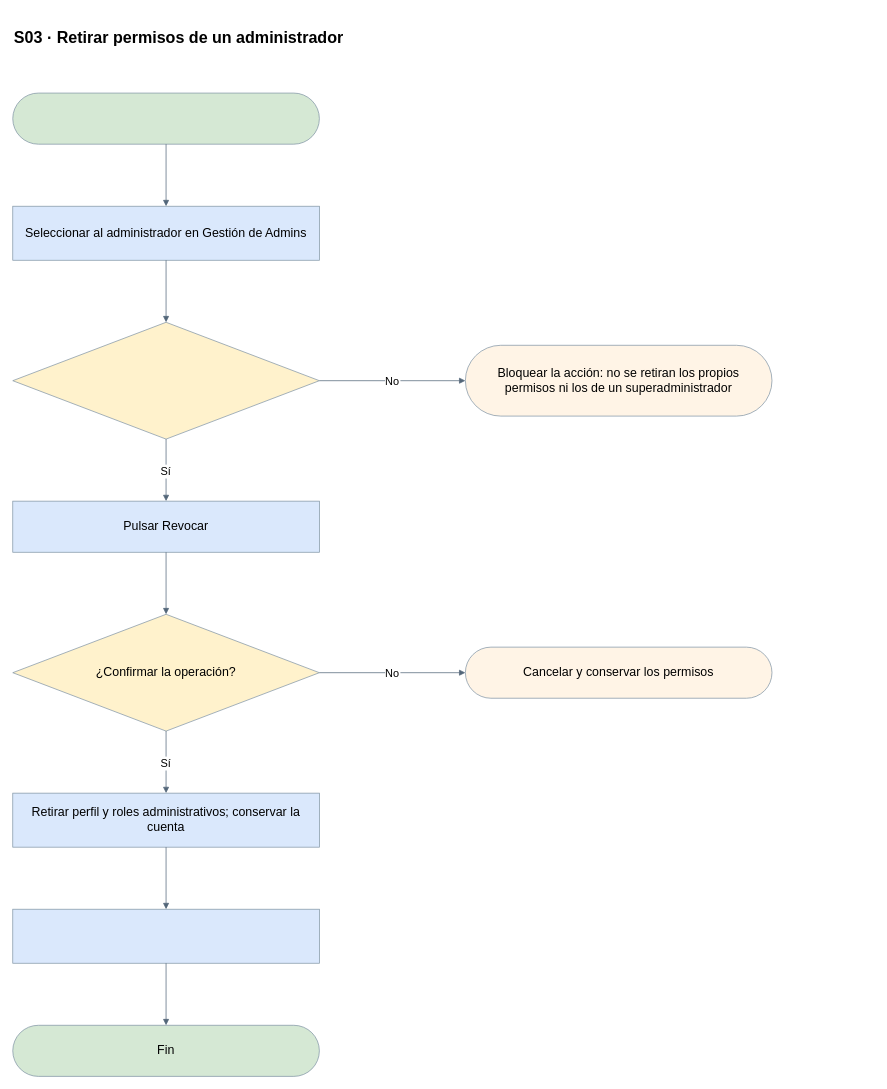
The diagram is 887 pixels wide and 1089 high, and some of its shapes have lost their labels. The shapes that lost their labels are listed below. From the top down, each one's centre as x and y in pixels, then its label:
point (165, 118): Inicio
point (165, 380): ¿Es otro administrador común?
point (165, 935): Comprobar la lista de administradores actualizada
